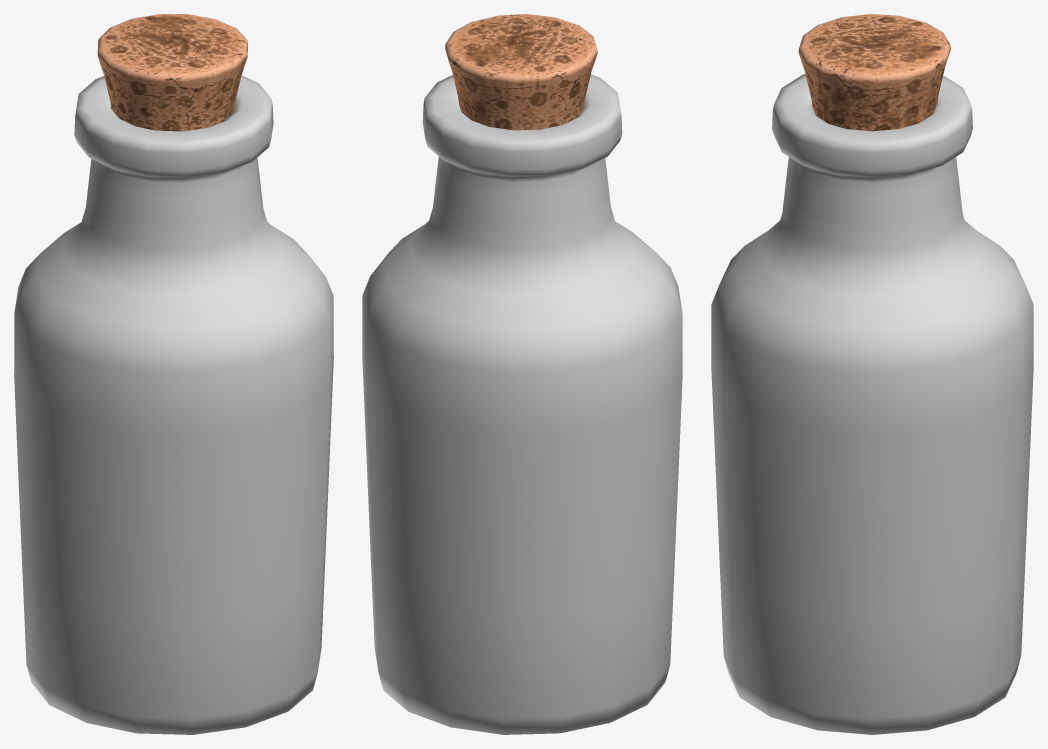
File: Bottle_B.fbx
3 renders of one model, left to right at view 1: azimuth 30°, elevation 25°; view 2: azimuth 150°, elevation 25°; view 3: azimuth 270°, elevation 25°, orthographic.
Parts seen in each view (by area): view 1: Bottle_01; view 2: Bottle_01; view 3: Bottle_01.
Part boxes in pixels (bbox=[...]): Bottle_01: bbox=[14, 14, 333, 734]; Bottle_01: bbox=[362, 14, 682, 734]; Bottle_01: bbox=[711, 14, 1033, 734].
Bounding box in the file's own units: 72.63 × 158 × 72.63.
